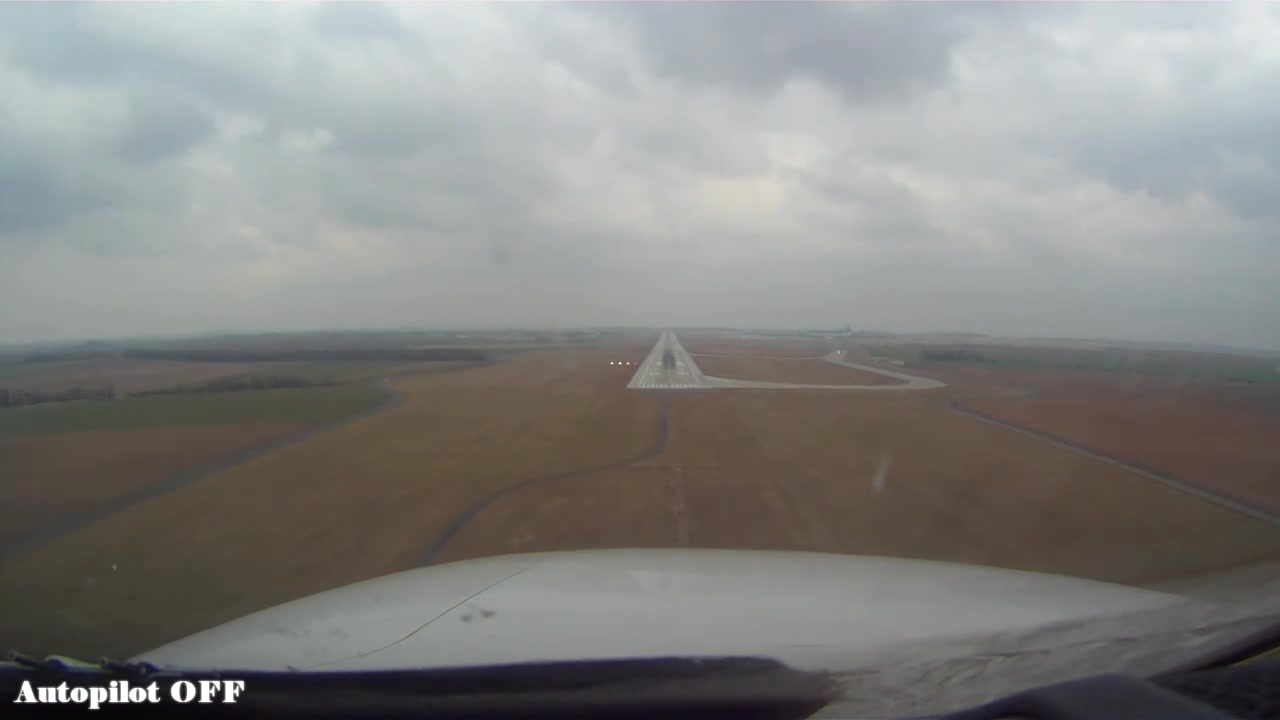entrance: (638, 382, 699, 389)
runway: (626, 331, 704, 391)
